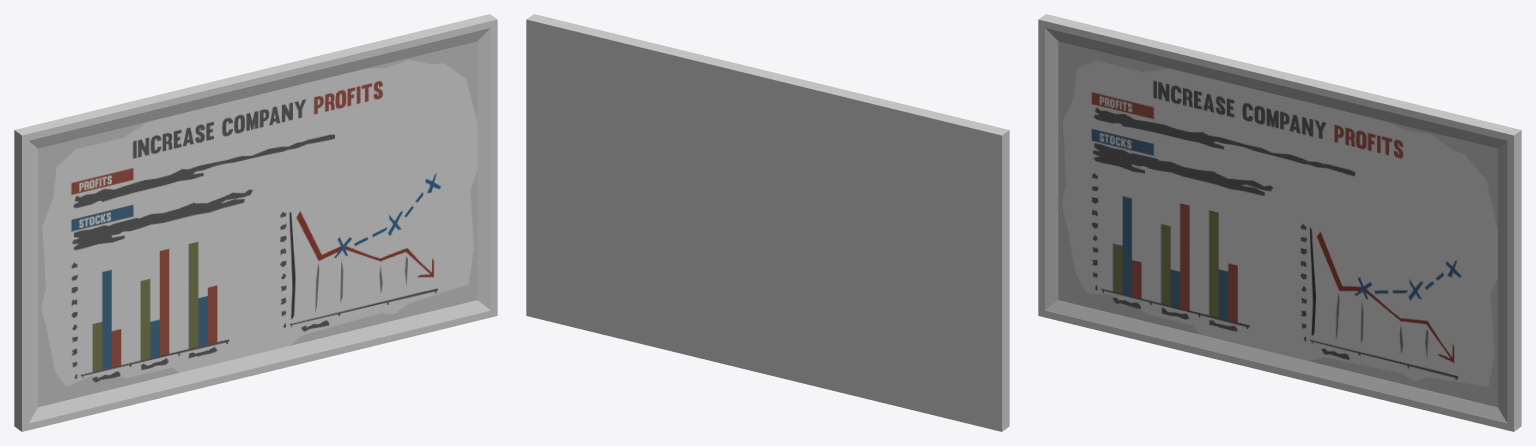
The model's file is SM_Prop_ProjectorScreen_01.obj.
3 views of the same model, side by side, from view 1: azimuth 30°, elevation 25°; view 2: azimuth 150°, elevation 25°; view 3: azimuth 330°, elevation 25° (orthographic).
Visible parts, largest first — view 1: SM_Prop_ProjectorScreen_01_M_PolygonOffice_Screen_05, SM_Prop_ProjectorScreen_01_M_PolygonOffice_01_A; view 2: SM_Prop_ProjectorScreen_01_M_PolygonOffice_01_A; view 3: SM_Prop_ProjectorScreen_01_M_PolygonOffice_Screen_05, SM_Prop_ProjectorScreen_01_M_PolygonOffice_01_A.
Boxes of the visible parts, x1=… form: SM_Prop_ProjectorScreen_01_M_PolygonOffice_Screen_05: x1=38, y1=41, x2=477, y2=407; SM_Prop_ProjectorScreen_01_M_PolygonOffice_01_A: x1=14, y1=14, x2=497, y2=431; SM_Prop_ProjectorScreen_01_M_PolygonOffice_01_A: x1=526, y1=14, x2=1009, y2=431; SM_Prop_ProjectorScreen_01_M_PolygonOffice_Screen_05: x1=1058, y1=41, x2=1497, y2=407; SM_Prop_ProjectorScreen_01_M_PolygonOffice_01_A: x1=1038, y1=14, x2=1521, y2=431.
Bounding box in the file's own units: 2.61 × 1.56 × 0.0718.
2 materials, 1 textured.
